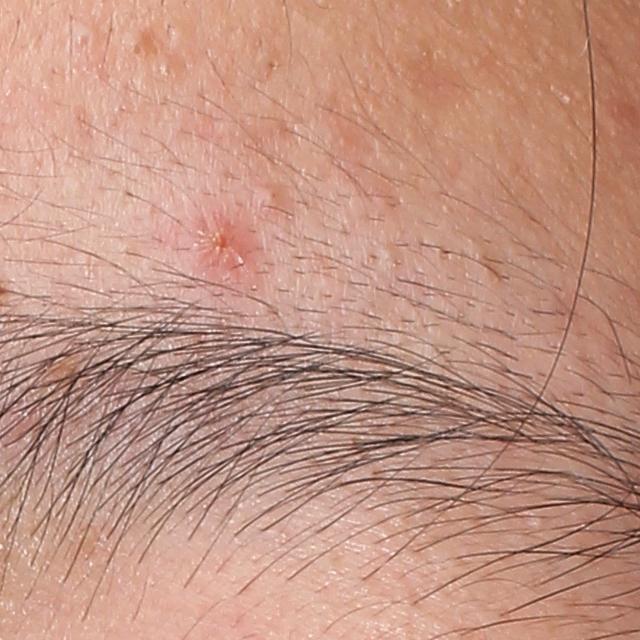comedo: (374, 238, 407, 266), (255, 47, 286, 75), (122, 32, 146, 59)
papule: (206, 222, 248, 275)
